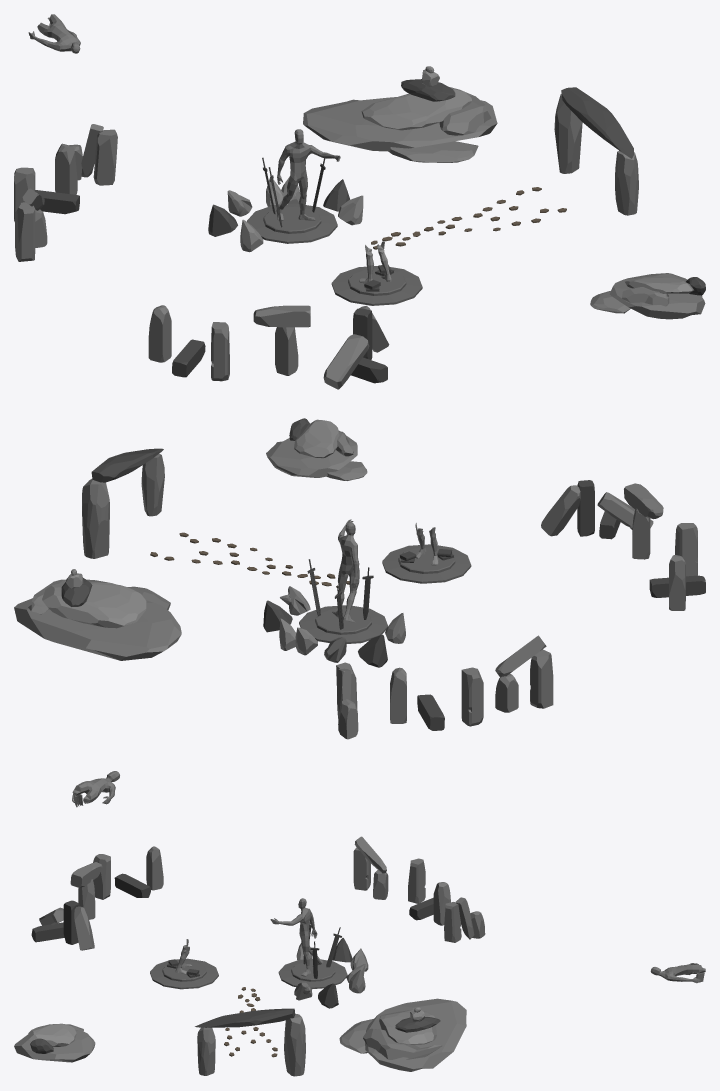
File: StoneDeltas.fbx
The picture shows the model from 3 angles, top to bottom: view 1: azimuth 30°, elevation 25°; view 2: azimuth 150°, elevation 25°; view 3: azimuth 270°, elevation 25°; orthographic projection. The views are drawn at different scales.
Visible parts, largest first — view 1: Cube.002, Icosphere.002, Cylinder.004, Cube.001, Icosphere.001, Cone.005, Cube.009, destroyedtop, Cylinder.001; view 2: Cube.002, Icosphere.002, Cube.001, Cylinder.004, Icosphere.001, Cone.005, Cube.009, destroyedtop, Cylinder.001; view 3: Cube.002, Icosphere.002, Cylinder.004, Cube.001, Icosphere.001, Cube.009, Cone.005, destroyedtop, Cylinder.001.
Boxes of the visible parts, x1,y1,x2,y2 form: Cube.002: (14, 124, 389, 389); Icosphere.002: (303, 66, 497, 162); Cylinder.004: (554, 87, 638, 215); Cube.001: (247, 129, 340, 243); Icosphere.001: (590, 273, 705, 319); Cone.005: (208, 176, 363, 252); Cube.009: (331, 241, 422, 305); destroyedtop: (28, 14, 80, 53); Cylinder.001: (371, 187, 566, 249); Cube.002: (336, 480, 705, 739); Icosphere.002: (14, 569, 181, 660); Cube.001: (299, 519, 387, 643); Cylinder.004: (82, 448, 164, 558); Icosphere.001: (266, 418, 367, 480); Cone.005: (263, 586, 405, 667); Cube.009: (382, 523, 471, 583); destroyedtop: (72, 771, 119, 807); Cylinder.001: (150, 532, 349, 587); Cube.002: (31, 836, 485, 950); Icosphere.002: (339, 998, 466, 1071); Cylinder.004: (195, 1008, 305, 1076); Cube.001: (270, 898, 347, 989); Icosphere.001: (14, 1023, 95, 1062); Cube.009: (150, 939, 218, 989); Cone.005: (294, 938, 368, 1008); destroyedtop: (650, 963, 705, 983); Cylinder.001: (224, 987, 277, 1057).
Bounding box in the file's own units: 4483 × 902 × 6736.
